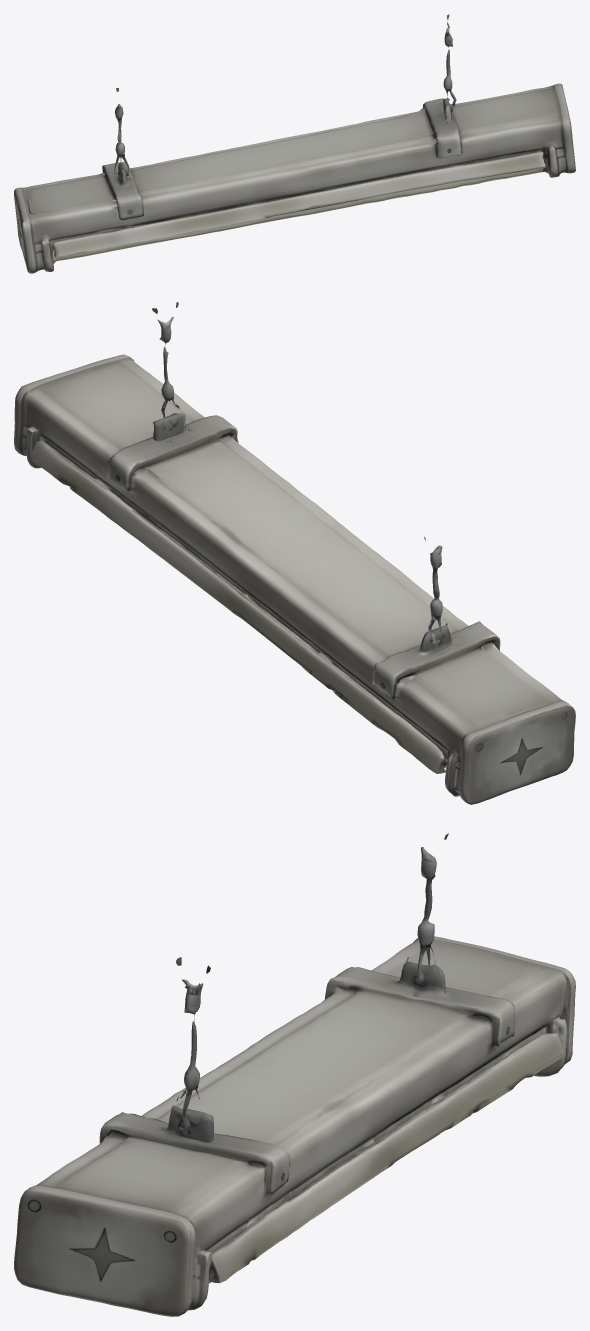
Rendered from tripo_convert_3b3c3c5d-c06f-466b-8b93-09e54f772545.glb.
3 renders of one model, top to bottom at view 1: azimuth 30°, elevation 25°; view 2: azimuth 150°, elevation 25°; view 3: azimuth 270°, elevation 25°, orthographic. The views are drawn at different scales.
Parts seen in each view (by area): view 1: tripo_node_3b3c3c5d-c06f-466b-8b93-09e54f772545; view 2: tripo_node_3b3c3c5d-c06f-466b-8b93-09e54f772545; view 3: tripo_node_3b3c3c5d-c06f-466b-8b93-09e54f772545.
Boxes of the visible parts, <box> form: tripo_node_3b3c3c5d-c06f-466b-8b93-09e54f772545: <box>14,14,575,273</box>; tripo_node_3b3c3c5d-c06f-466b-8b93-09e54f772545: <box>14,302,575,804</box>; tripo_node_3b3c3c5d-c06f-466b-8b93-09e54f772545: <box>14,833,575,1316</box>.
Bounding box in the file's own units: 0.9969 × 0.4326 × 0.5573.
1 material, 1 textured.
